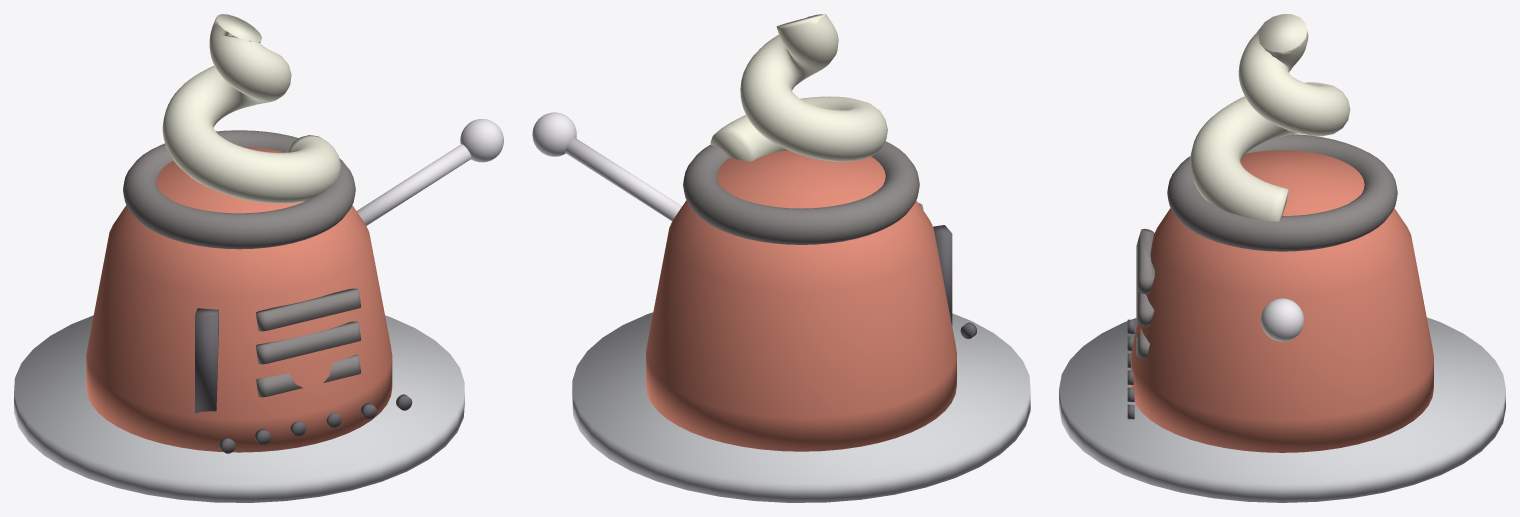
The model's file is hand-mixer.glb.
3 renders of one model, left to right at view 1: azimuth 30°, elevation 25°; view 2: azimuth 150°, elevation 25°; view 3: azimuth 270°, elevation 25°, orthographic. The views are drawn at different scales.
Visible parts, largest first — view 1: part1, part2, part0, part8; view 2: part1, part0, part2, part8; view 3: part1, part0, part2, part8.
Boxes of the visible parts, x1=… form: part1: x1=86, y1=146, x2=392, y2=452; part2: x1=123, y1=14, x2=412, y2=453; part0: x1=14, y1=315, x2=464, y2=502; part8: x1=356, y1=119, x2=503, y2=225; part1: x1=646, y1=150, x2=956, y2=451; part0: x1=572, y1=312, x2=1030, y2=502; part2: x1=683, y1=14, x2=976, y2=338; part8: x1=532, y1=112, x2=682, y2=220; part1: x1=1131, y1=150, x2=1433, y2=452; part0: x1=1059, y1=317, x2=1505, y2=502; part2: x1=1127, y1=14, x2=1397, y2=419; part8: x1=1261, y1=298, x2=1303, y2=341.
Size of the model in its own units: 1 by 0.8143 by 0.8552.
4 materials, 4 textured.
